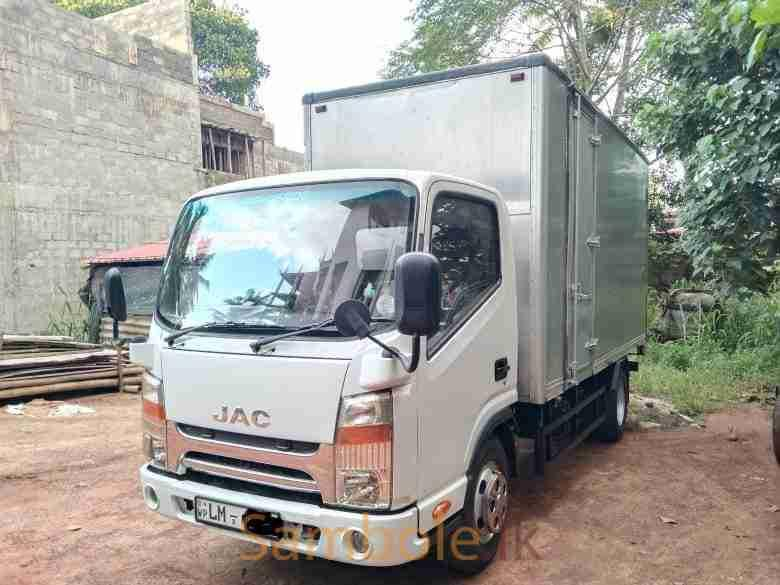truck: (104, 53, 647, 575)
